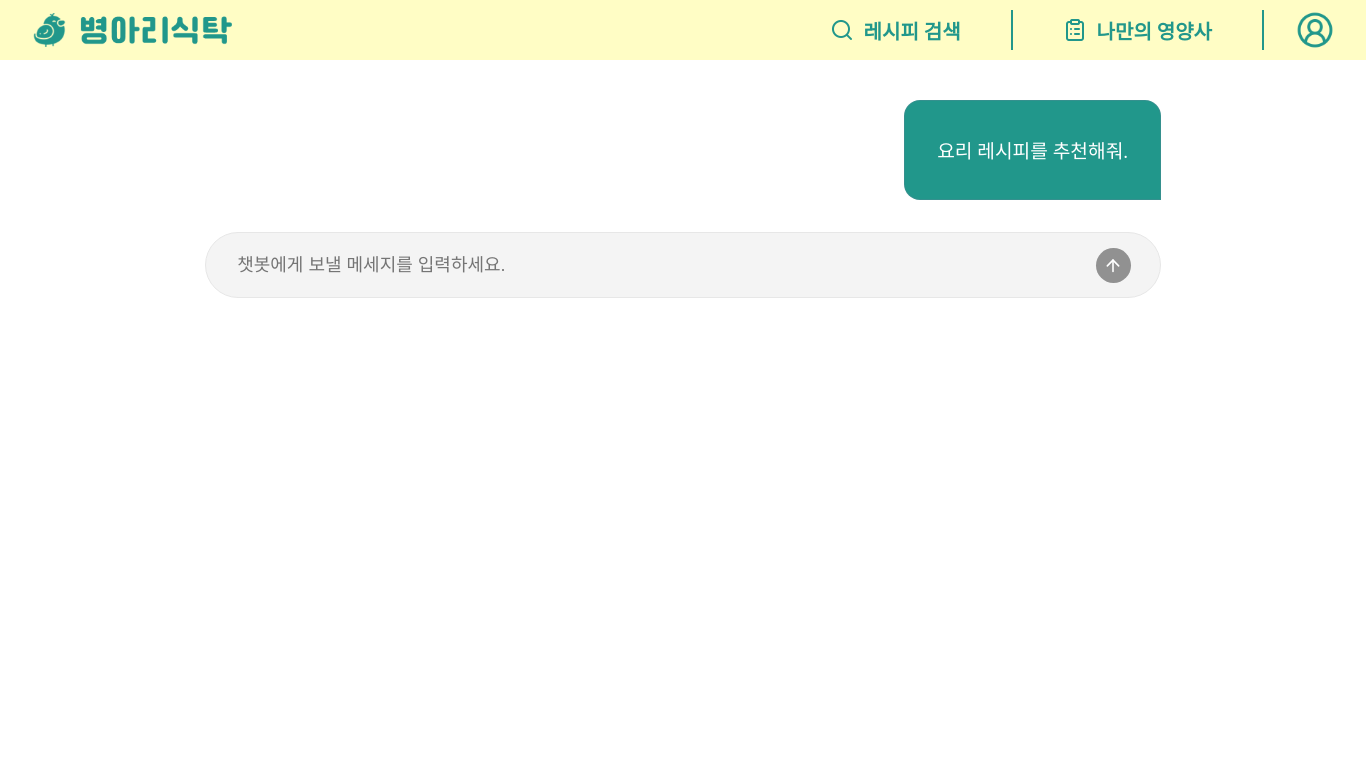
it: 챗봇 › 메시지를 보내면 챗봇 답변이 보인다
This screenshot has width=1366, height=768.
Type "두부 요리 추천해줘" into the field with placeholder "챗봇에게 보낼 메세지를 입력하세요." at (652, 265), box [235,240,1069,290]
Then press Enter
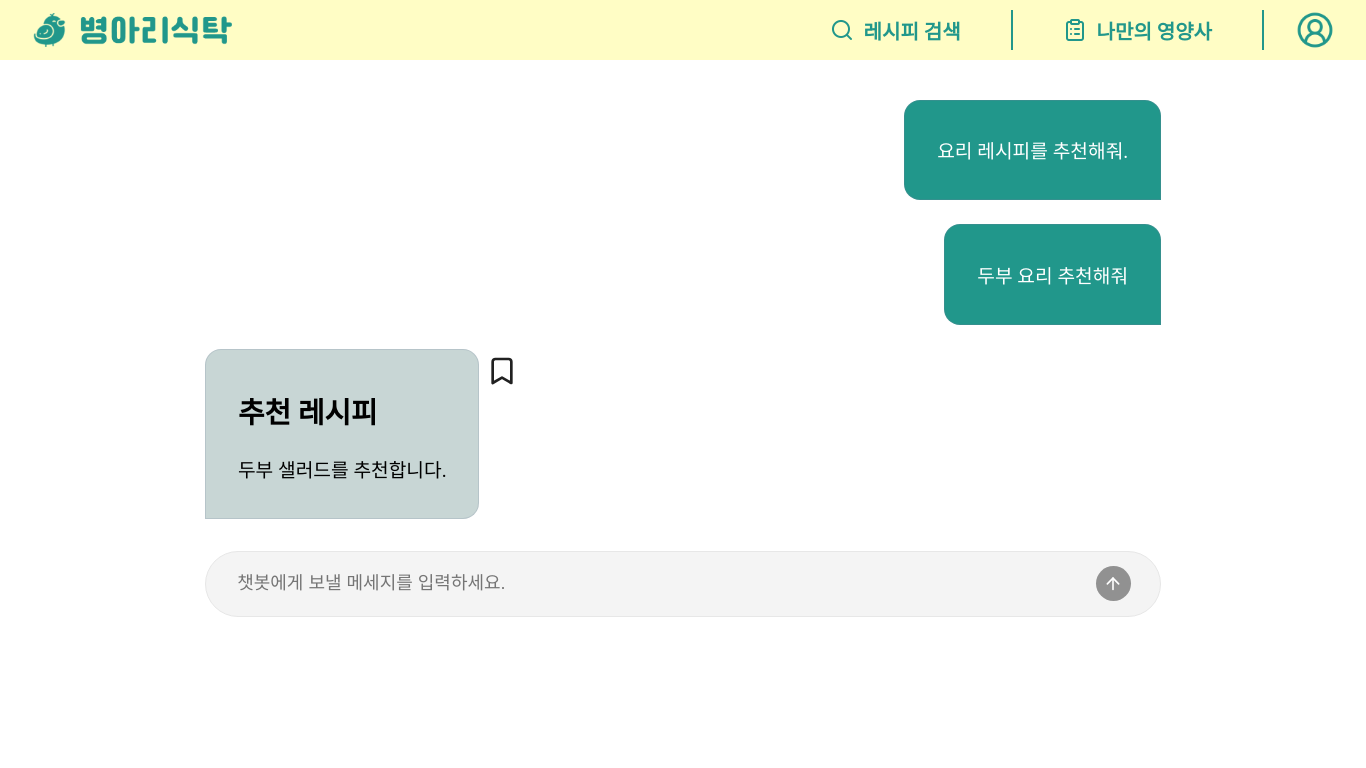
expect the text "두부 요리 추천해줘" is shown: met, box [977,261,1128,289]
expect the text "두부 샐러드를 추천합니다." is shown: met, box [238,454,446,482]
